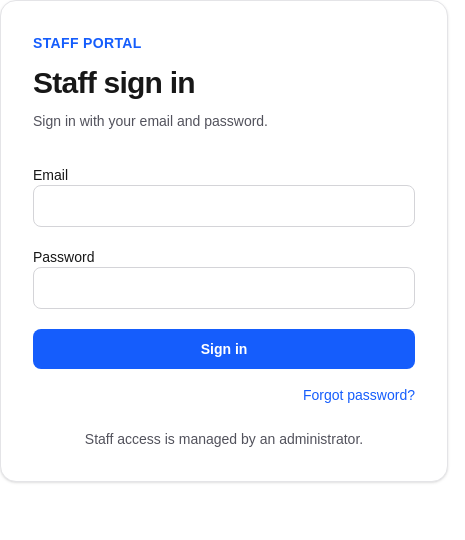
Scenario: sign-in error reporting › handles auth/invalid-credential without changing the form's recovery
Type "staff@example.com" into the field labelled "Email" at (224, 206), box [33,185,415,227]
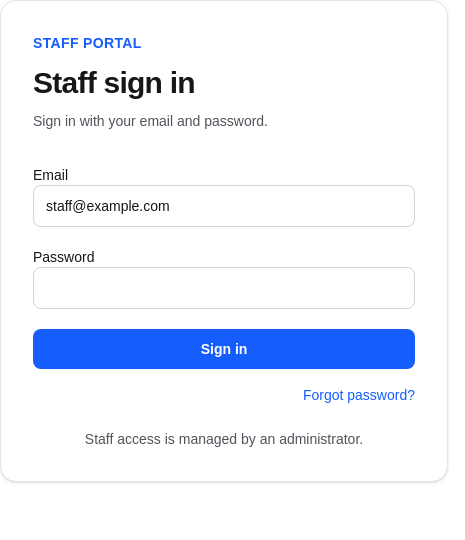
Type "password" into the password field labelled "Password" at (224, 288), box [33,267,415,309]
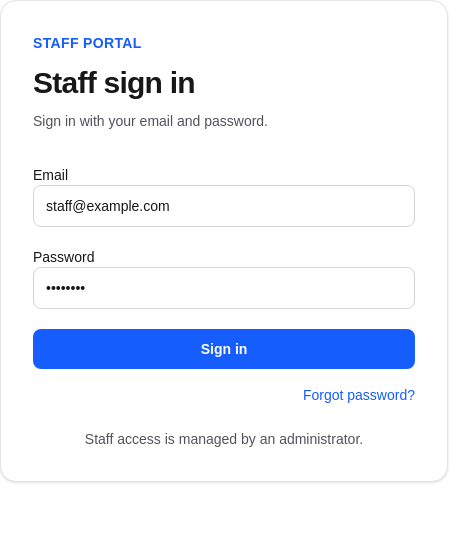
Click the button "Sign in" at (224, 349), box [33,329,415,369]
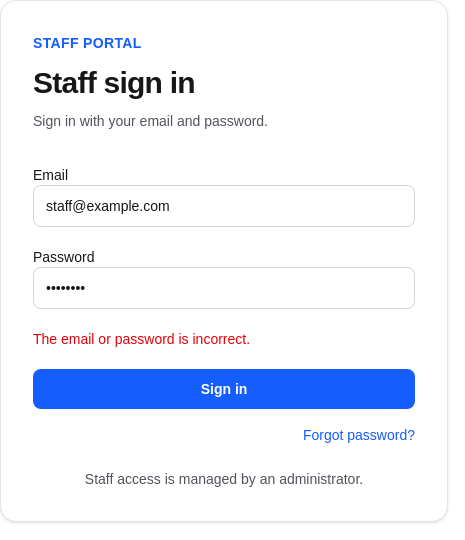
Expected: the button "Sign in" is enabled, [33,369,415,409]
Expected: the text "The email or password is incorrect." is shown, [33,331,250,347]
